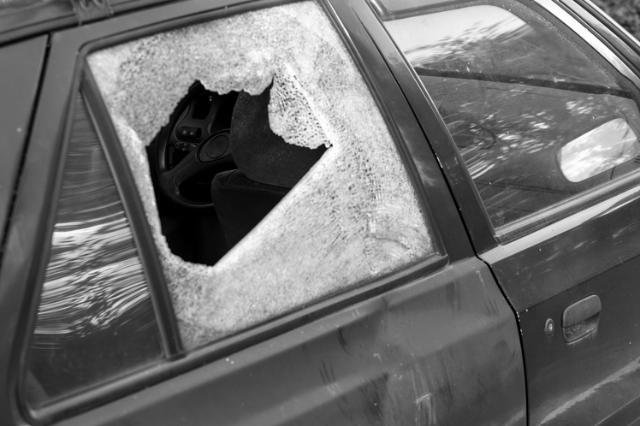Door: (39, 42, 454, 426)
